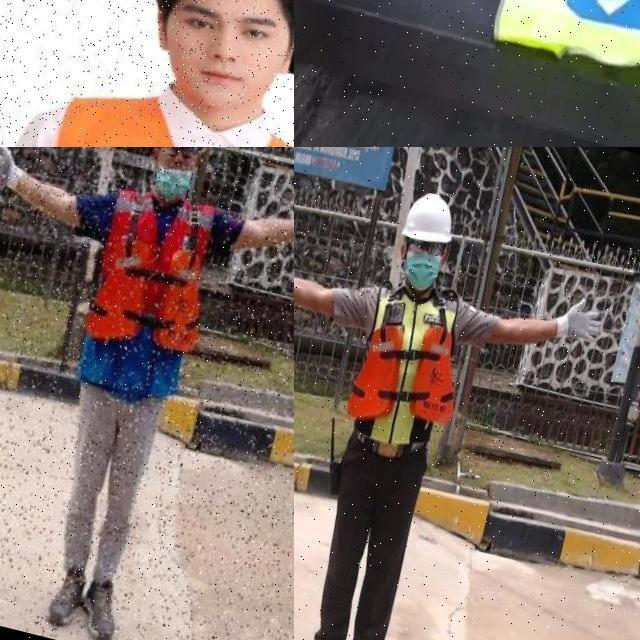boots: (44, 558, 92, 632), (71, 575, 125, 640)
helmet: (398, 188, 461, 256)
vest: (59, 168, 253, 420), (338, 278, 479, 462), (0, 76, 294, 147), (460, 0, 640, 101)
